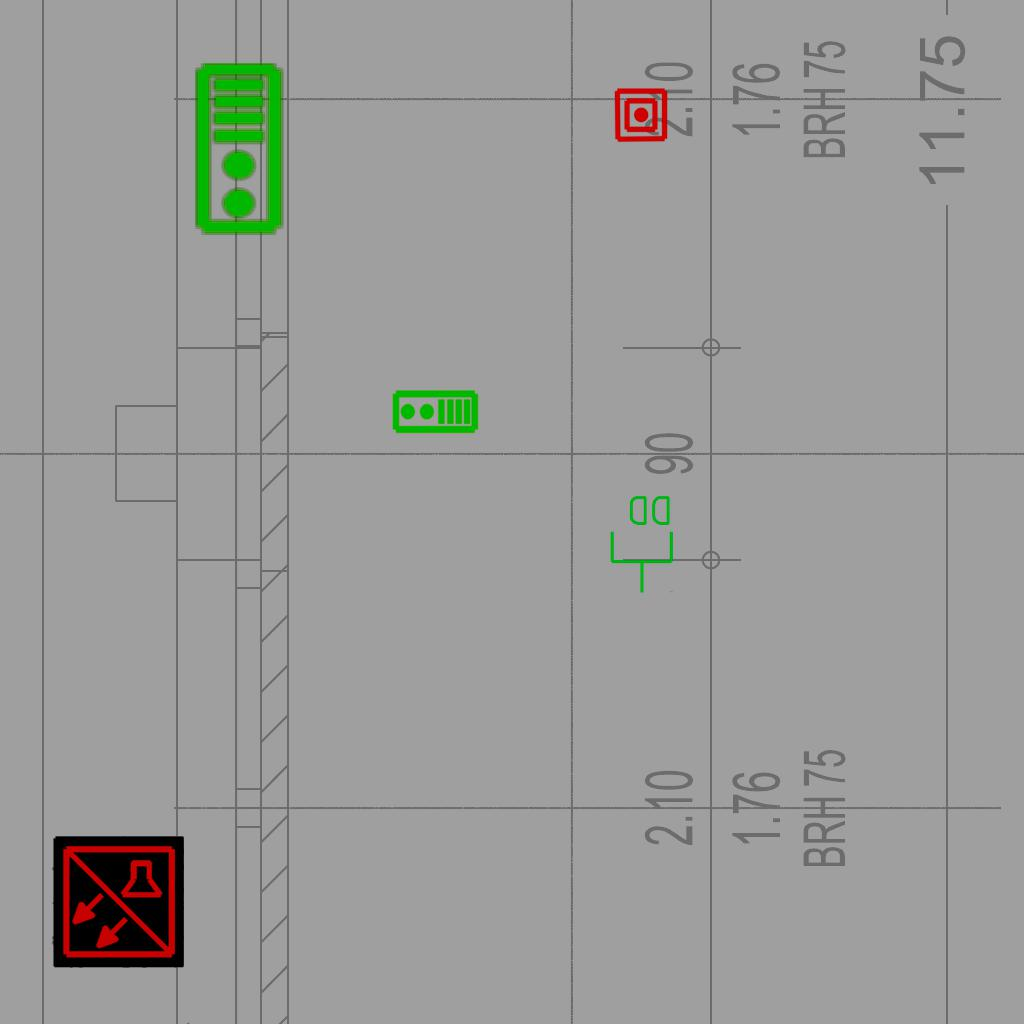Datenanschluss_zweifach: (608, 492, 677, 595)
Gegensprechanlage_mit_Video: (193, 61, 288, 237), (391, 389, 479, 436)
NAM-Nichtautomatischer_Melder: (613, 87, 669, 143)
OKW_Multisensormelder_(Kombination_optischer_Rauch-Kahlenmonoxid_Waerme-Melder): (52, 836, 184, 968)
